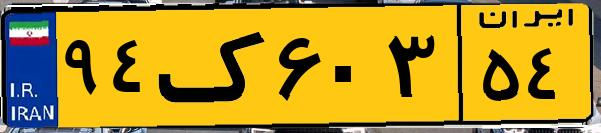0: (330, 28, 385, 110)
3: (385, 28, 445, 110)
4: (525, 38, 570, 115), (110, 28, 158, 98)
5: (475, 38, 525, 113)
6: (270, 28, 330, 110)
9: (57, 26, 110, 100)
ک: (158, 12, 270, 120)
